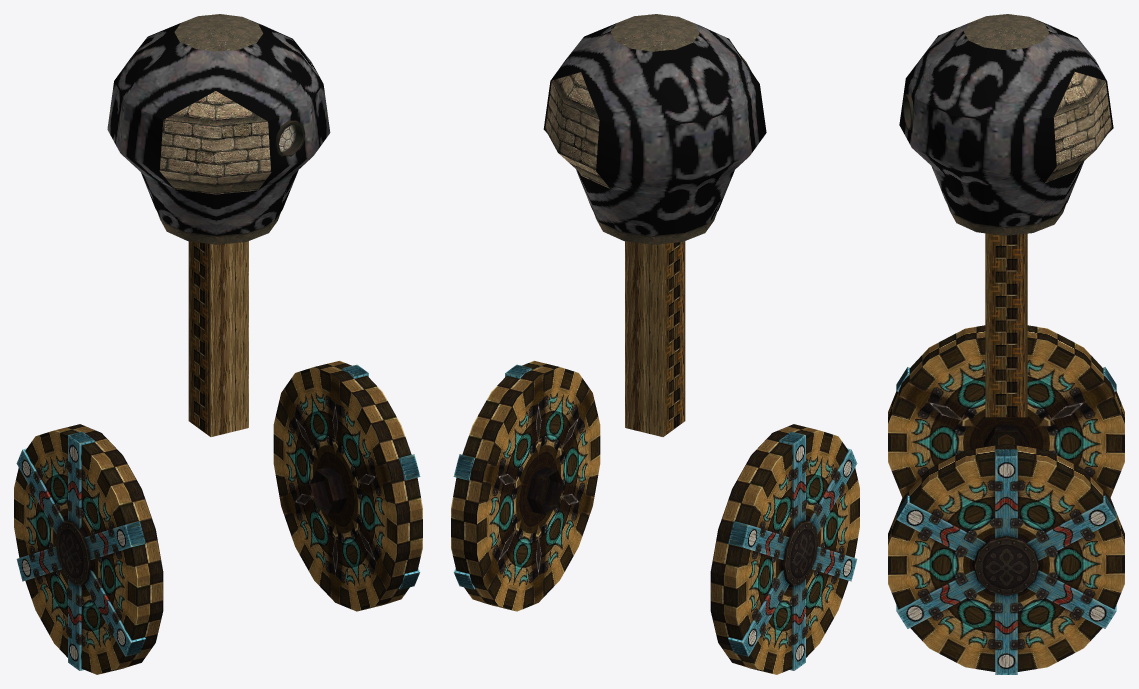
File: tower_parts.dae
3 renders of one model, left to right at view 1: azimuth 30°, elevation 25°; view 2: azimuth 150°, elevation 25°; view 3: azimuth 270°, elevation 25°, orthographic. The views are drawn at different scales.
Visible parts, largest first — view 1: tower_lever, panel_01_001, panel_01, panel_01_frame, panel_01_frame_001; view 2: tower_lever, panel_01_001, panel_01, panel_01_frame, panel_01_frame_001; view 3: tower_lever, panel_01_001, panel_01, panel_01_frame_001.
Part boxes in pixels (x1,y1,x2,y2): tower_lever: (107,14,330,436); panel_01_001: (273,360,422,611); panel_01: (14,424,163,674); panel_01_frame: (16,431,145,670); panel_01_frame_001: (342,364,420,589); tower_lever: (543,14,766,436); panel_01_001: (451,360,600,611); panel_01: (710,424,859,674); panel_01_frame: (728,431,857,670); panel_01_frame_001: (453,364,531,589); tower_lever: (899,14,1113,417); panel_01_001: (888,443,1124,671); panel_01: (888,325,1124,497); panel_01_frame_001: (896,449,1116,674).
Size of the model in its own units: 4.62 by 3.29 by 8.93.
Materials: 5 (5 with a texture image).
